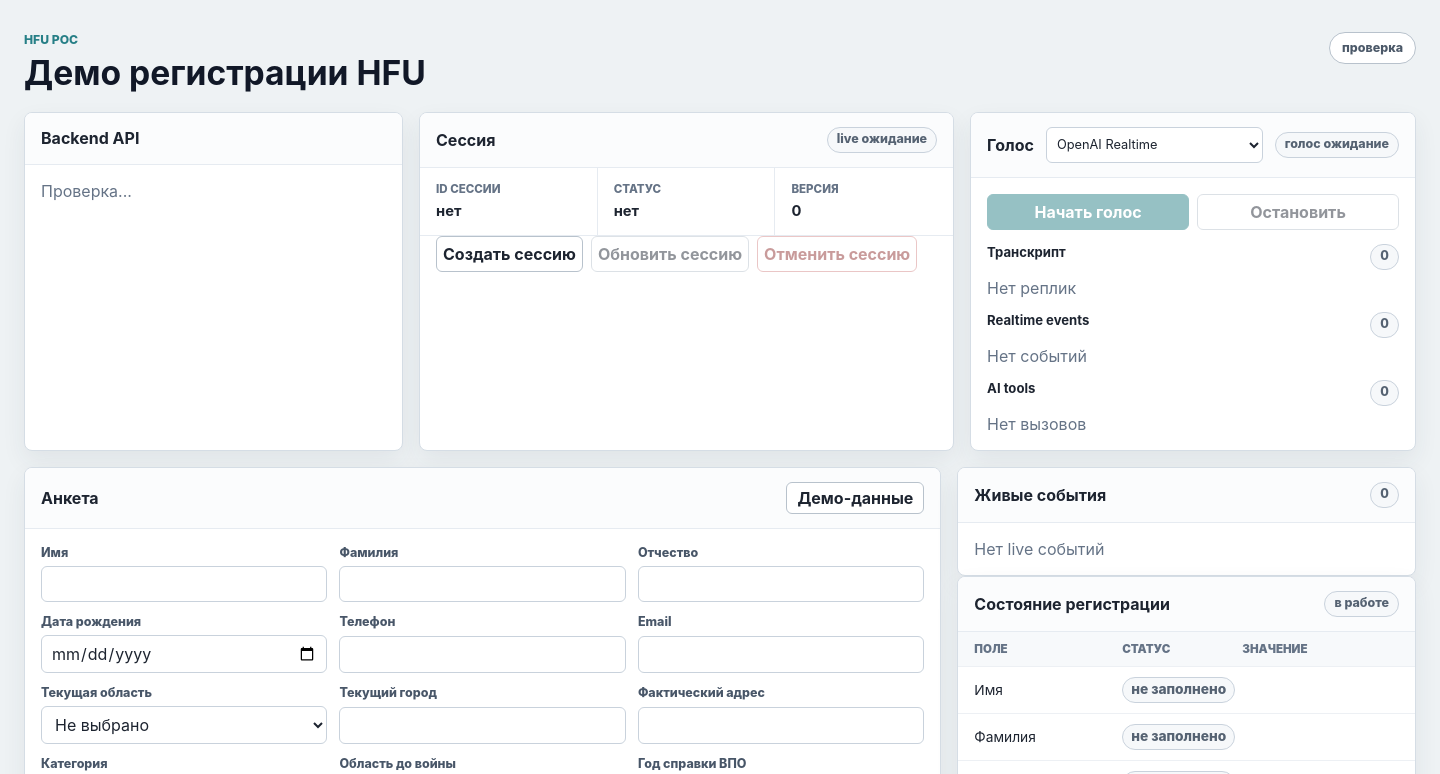
Test: App › renders voice transcript entries
Click the button "Создать сессию": click(509, 254) [436,236,583,272]
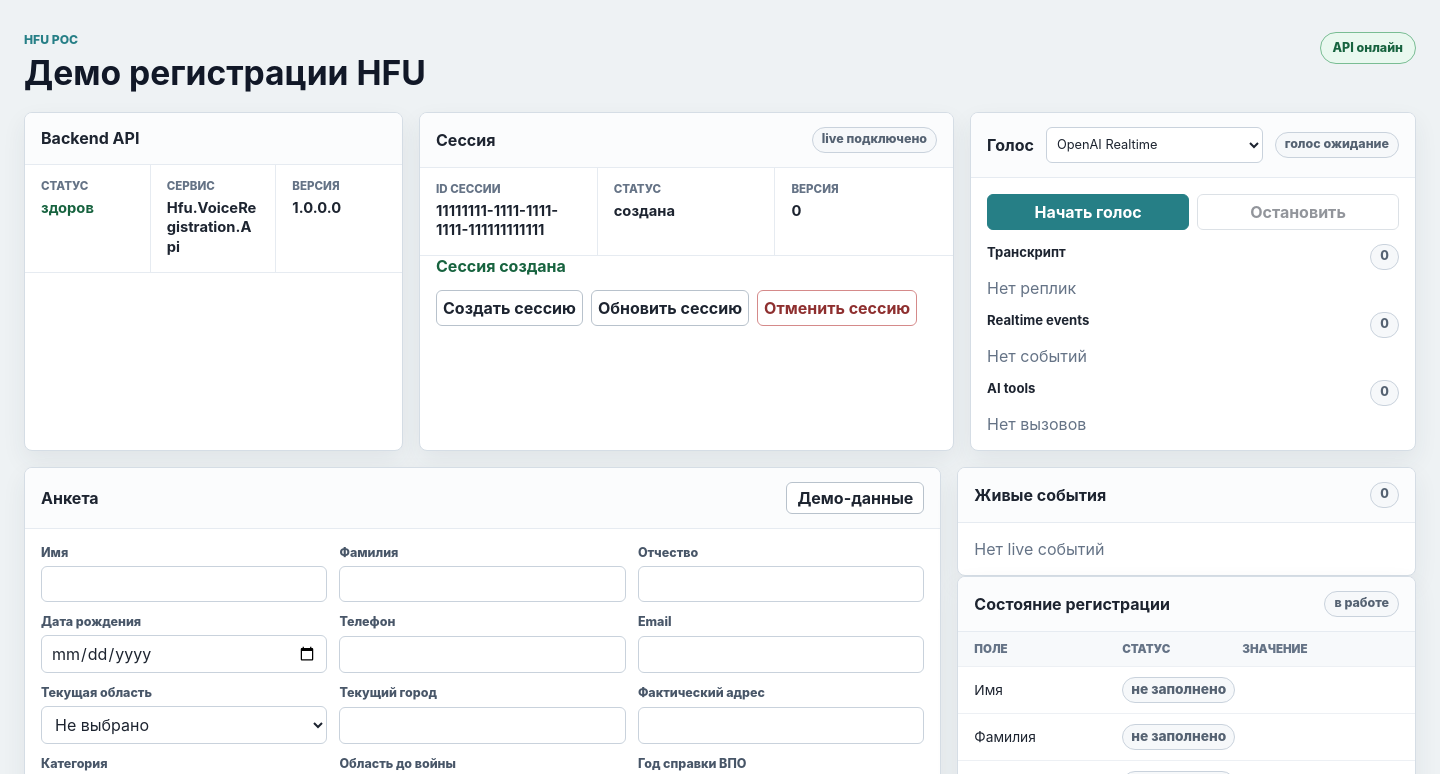
Expected: the text "11111111-1111-1111-1111-111111111111" is shown, [436,202,558,240]
Click the button "Начать голос": click(1088, 212) [987,194,1189,230]
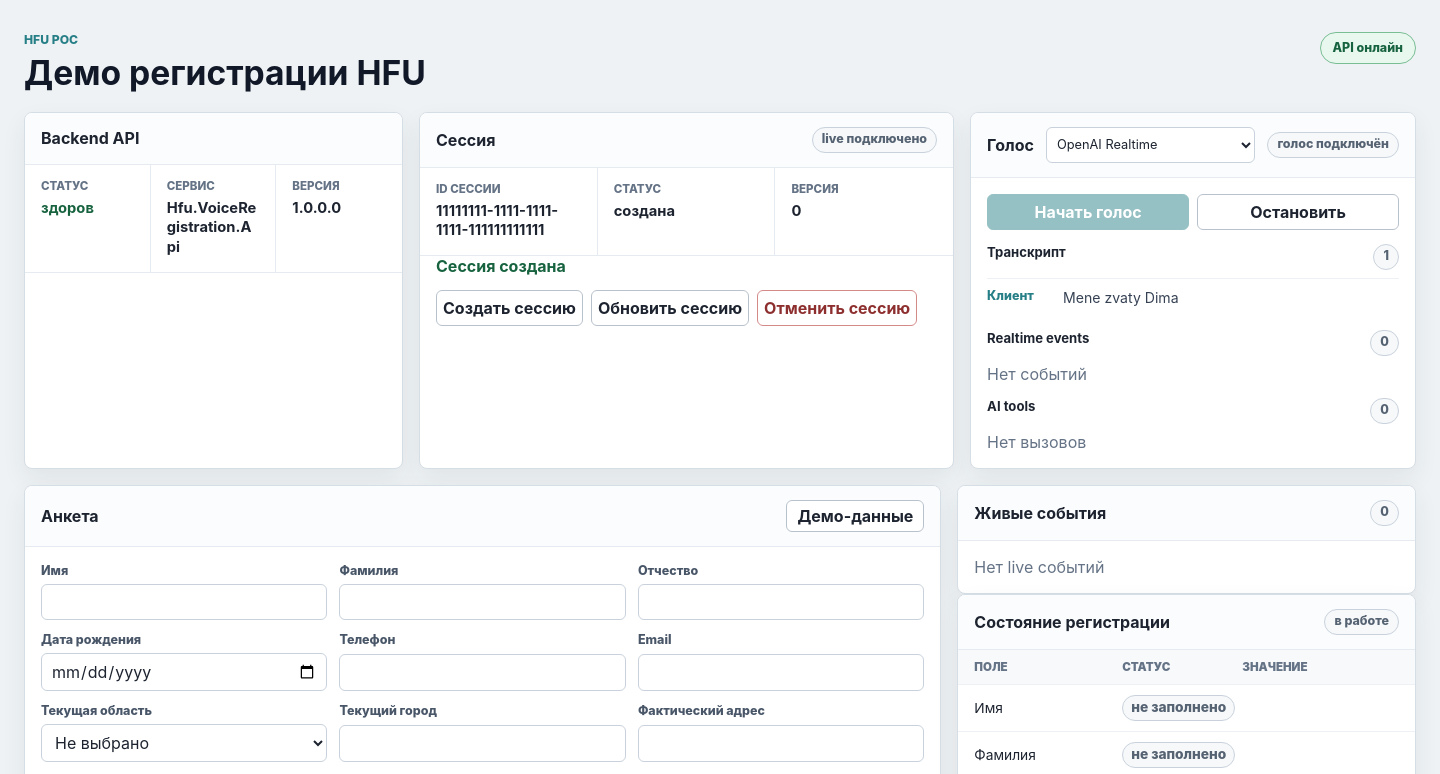
Expected: the text "Mene zvaty Dima" is shown, [1063,289,1179,306]
